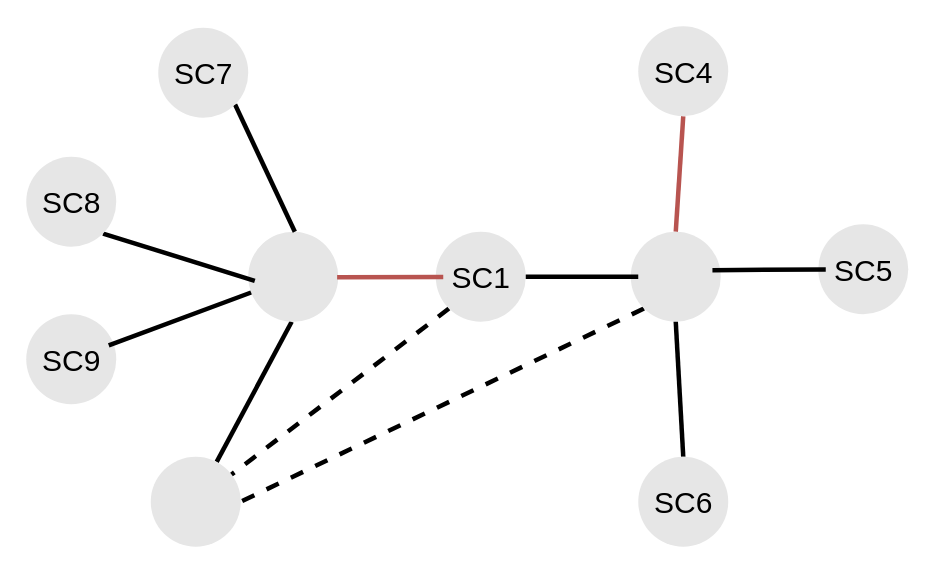
Image size: 933x572. Some labels were removed from this diagram. Here are the shapes that lost their labels. From the top down, the centre of each, then its label:
(x=292, y=276): SC3
(x=675, y=276): SC2
(x=195, y=501): SC10
